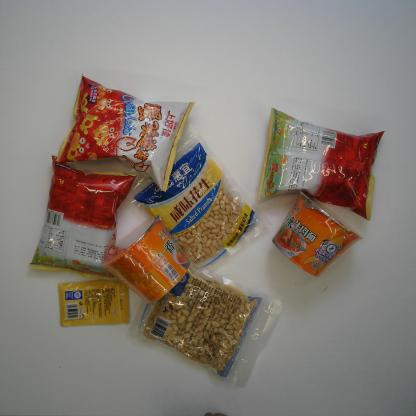Dried Fruit: (124, 121, 269, 275), (126, 267, 276, 388)
Instant Noodles: (270, 188, 364, 278), (100, 214, 192, 304)
Puffed Food: (54, 73, 195, 193), (256, 107, 386, 222), (27, 154, 138, 281)
Seasoner: (57, 280, 130, 328)
